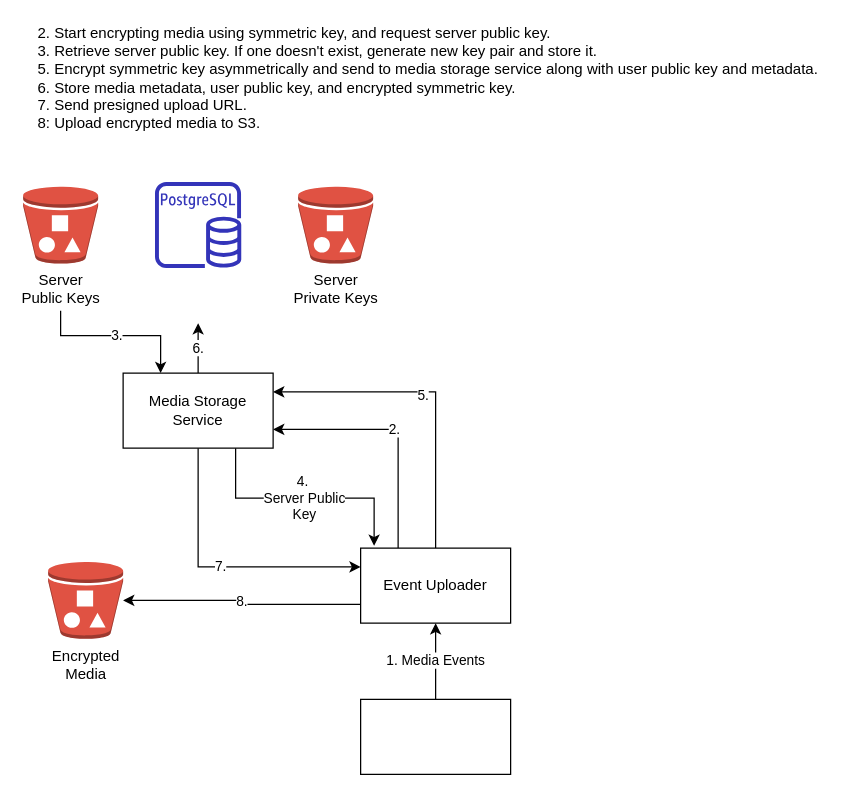
Some shapes in this 858 by 796 pixel diagram are drawn without their labels. Each missing label, with the centre of its shape:
"H5P Activities" goes at point 435,736.
"Media Metadata" goes at point 197,224.
